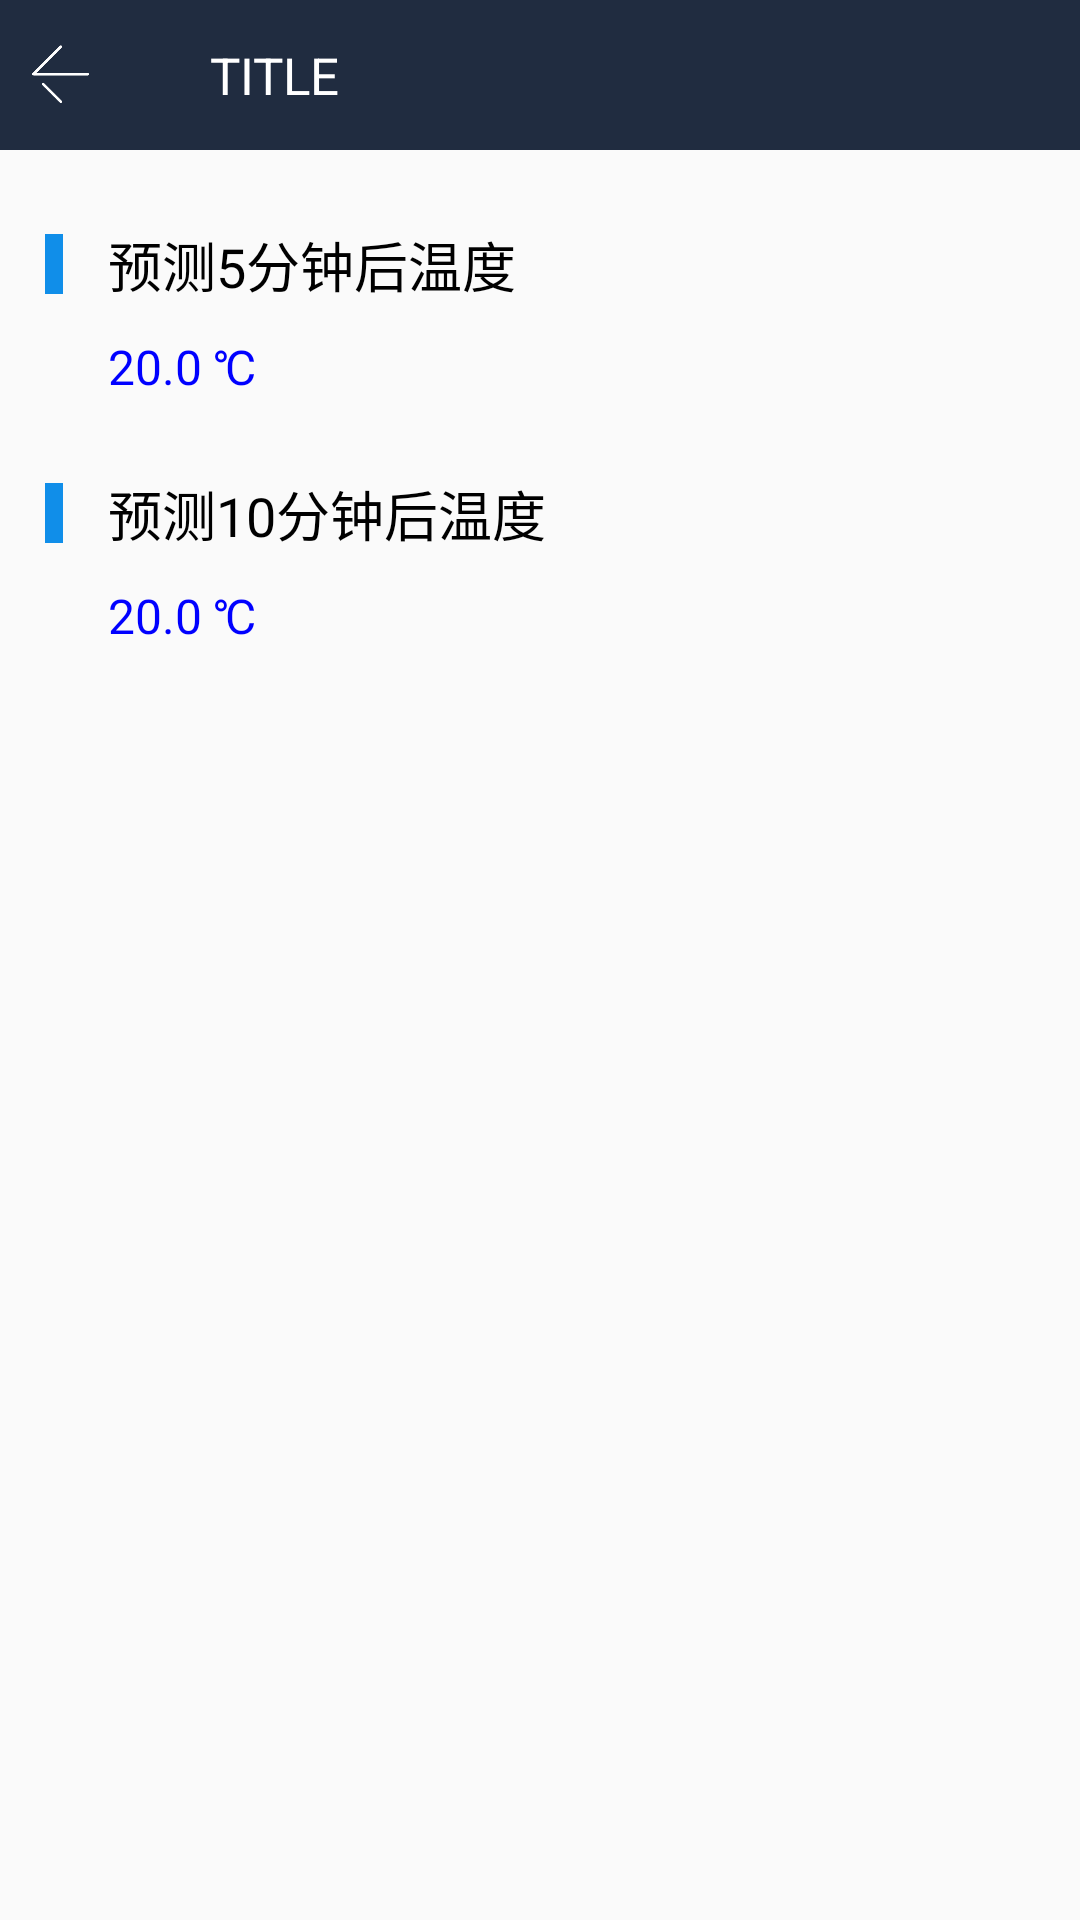

Where icons sit on this 1080×1920 app screen, as BBox(x1, y1, x2, y2):
back: BBox(32, 45, 89, 103)
